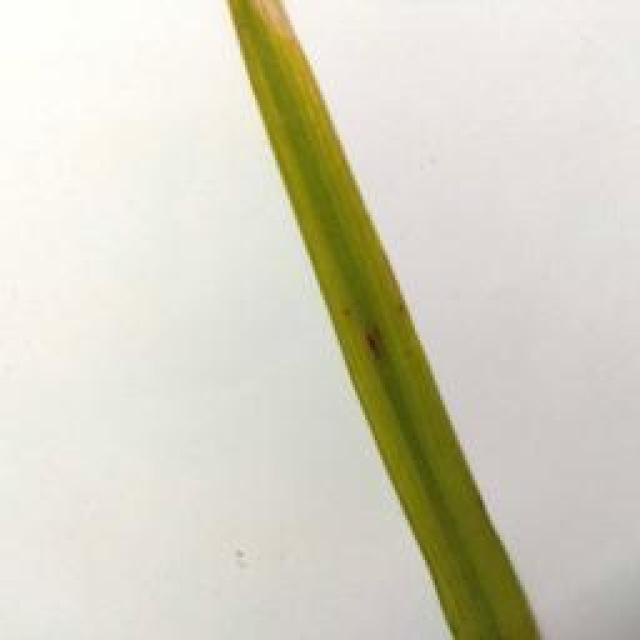Brown_Spot: (356, 315, 396, 368)
